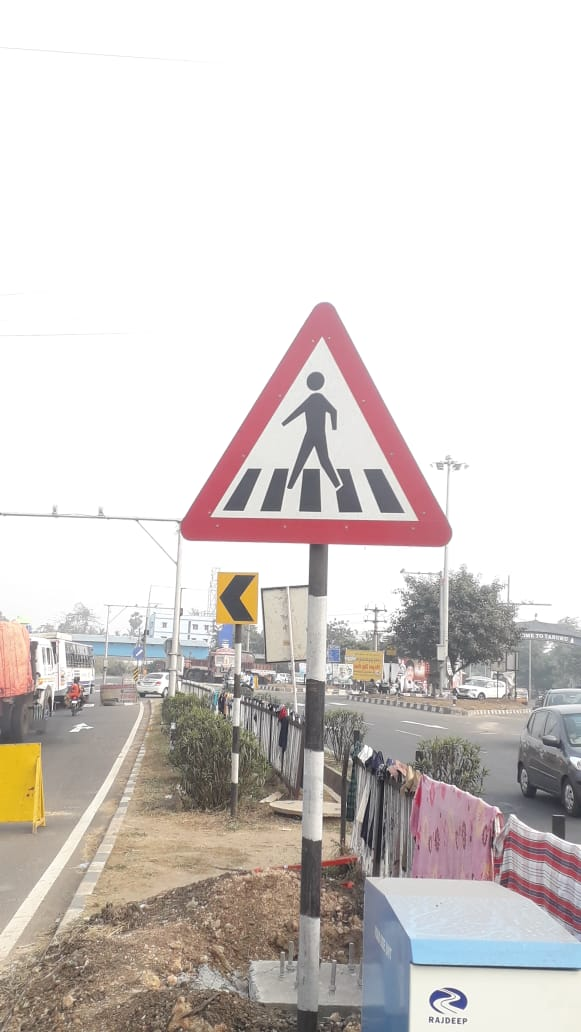pedestrian crossing: (174, 290, 462, 573)
